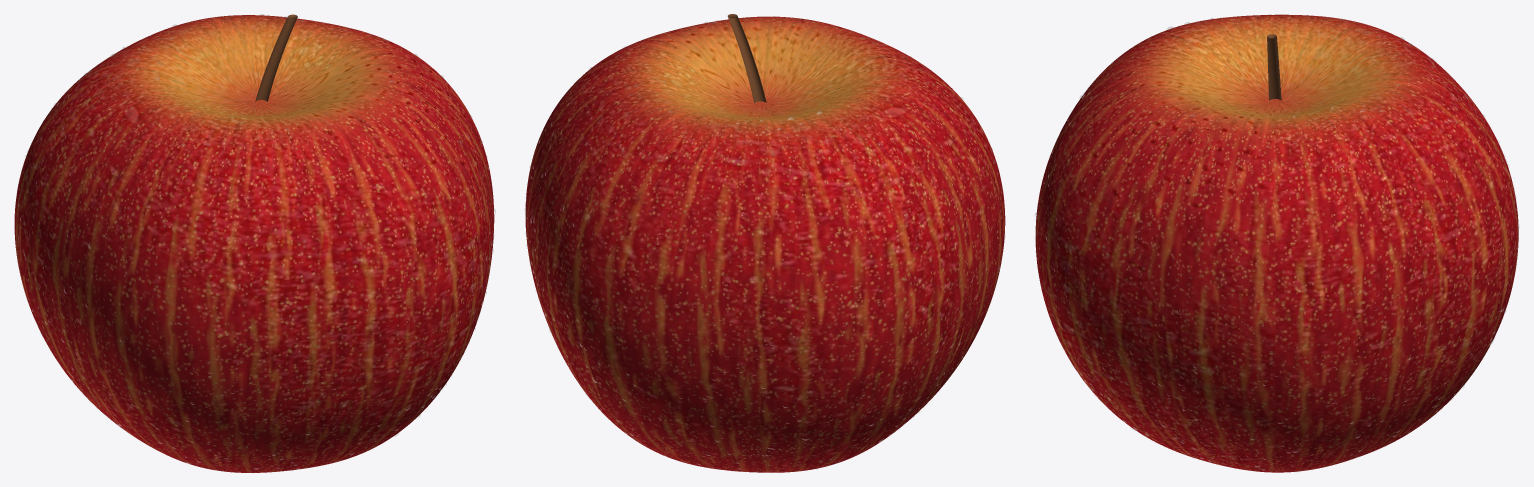
Rendered from Red-Apple-3D.glb.
3 views of the same model, side by side, from view 1: azimuth 30°, elevation 25°; view 2: azimuth 150°, elevation 25°; view 3: azimuth 270°, elevation 25° (orthographic).
Visible parts, largest first — view 1: Apple skin, Curved stem, Water droplets; view 2: Apple skin, Curved stem, Water droplets; view 3: Apple skin, Water droplets, Curved stem.
Part boxes in pixels (<box>): Apple skin: <box>14,15,494,472</box>; Curved stem: <box>255,14,297,101</box>; Water droplets: <box>14,14,495,472</box>; Apple skin: <box>525,16,1005,472</box>; Curved stem: <box>727,14,766,103</box>; Water droplets: <box>524,16,1005,472</box>; Apple skin: <box>1035,14,1518,472</box>; Water droplets: <box>1034,14,1519,472</box>; Curved stem: <box>1267,34,1281,100</box>.
Bounding box in the file's own units: 2.02 × 1.89 × 2.03.
Materials: 3 (1 with a texture image).
